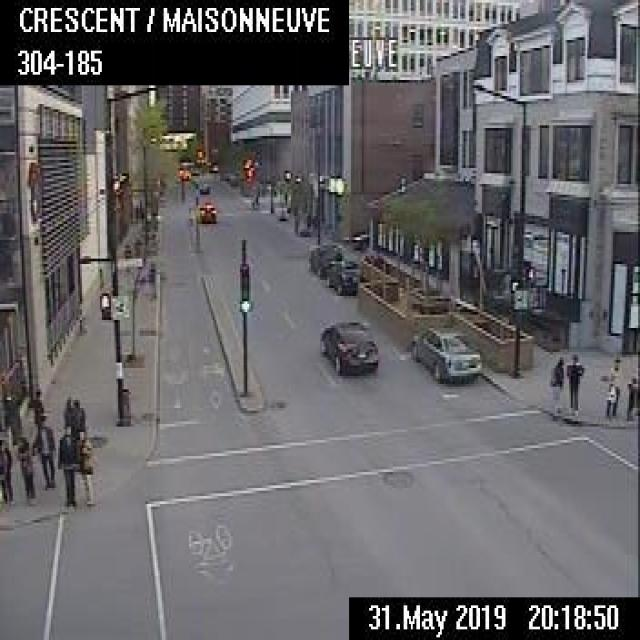pedestrian: (56, 420, 78, 506), (34, 411, 56, 488), (76, 427, 94, 505), (27, 384, 46, 452), (546, 352, 564, 421), (565, 351, 584, 416), (17, 433, 34, 502), (604, 355, 622, 416), (0, 435, 13, 504), (624, 373, 637, 421), (72, 397, 84, 444), (62, 394, 72, 434)
vehicle: (409, 323, 482, 381), (316, 314, 380, 378), (324, 257, 364, 292), (308, 242, 341, 275), (196, 198, 217, 222), (351, 229, 369, 248), (197, 180, 209, 193)
